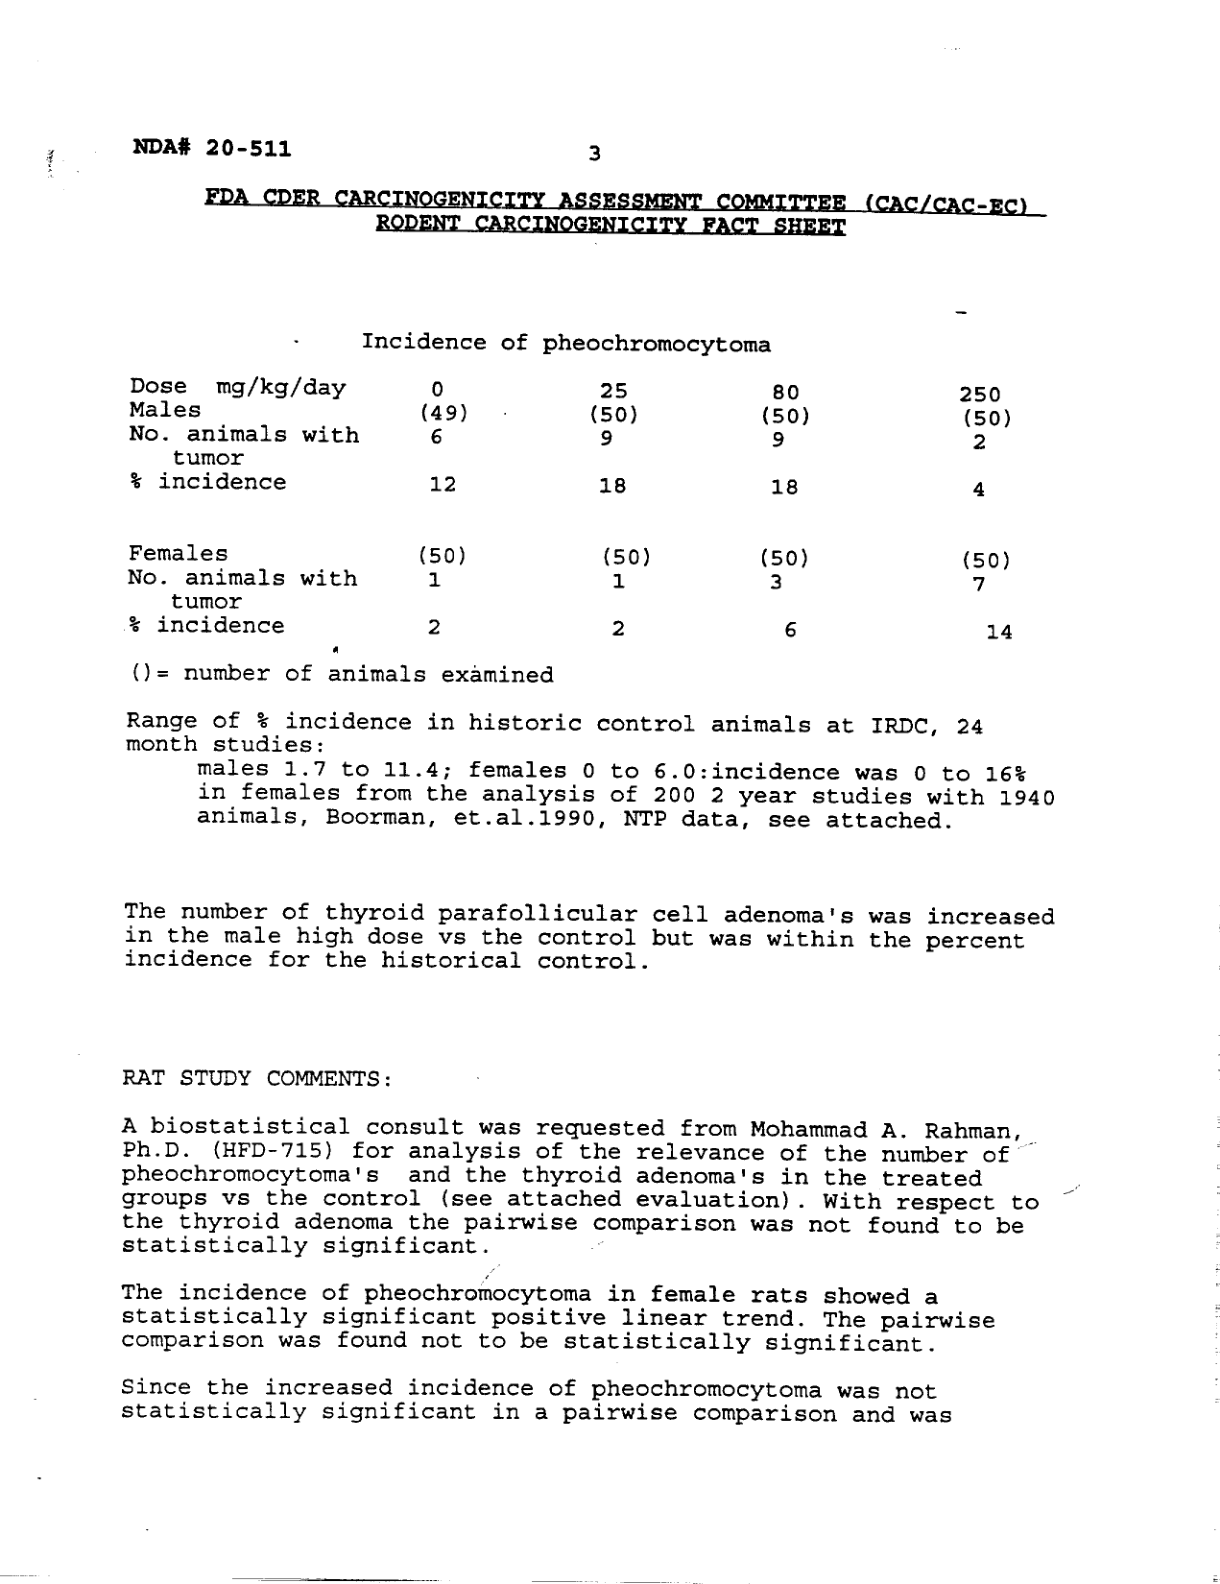nolines: (126, 373, 1018, 645)
